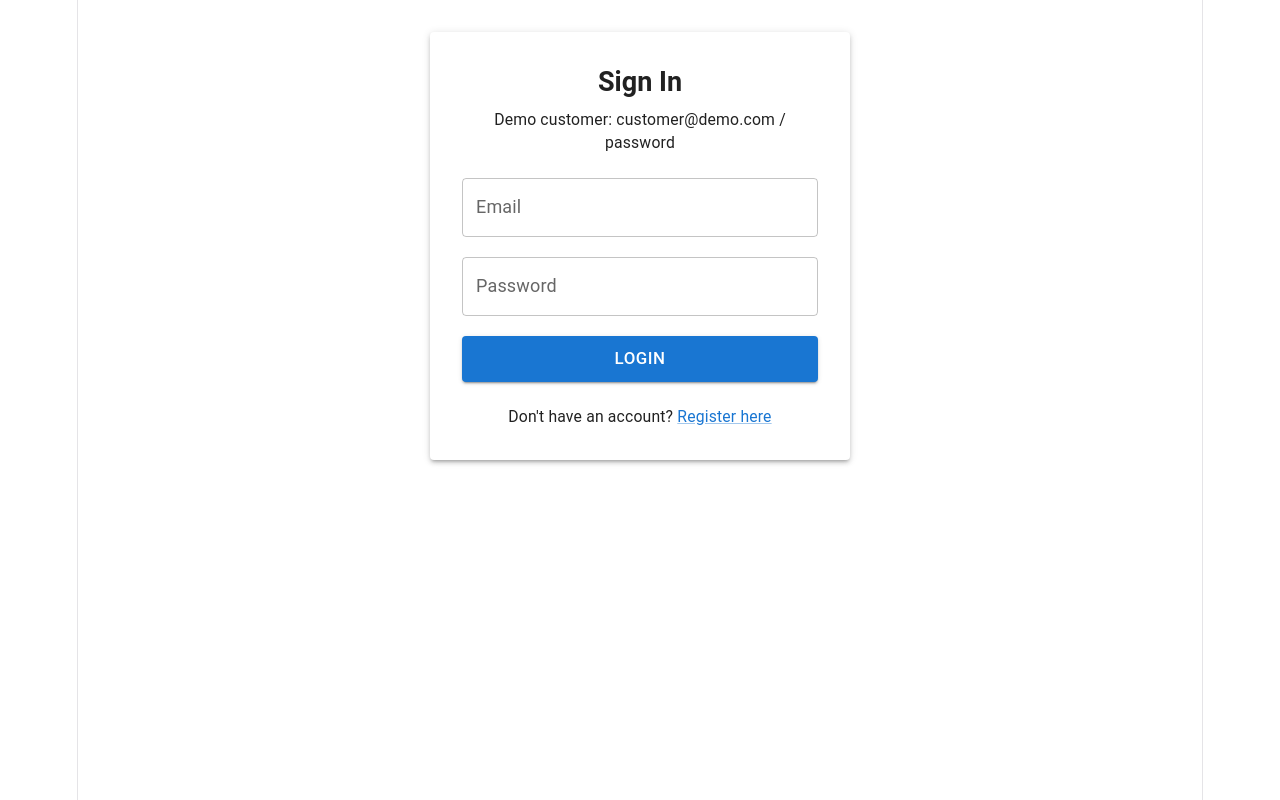
Test: LoginPage › shows validation messages when submitting empty fields
The image size is (1280, 800).
Click the button "Login": (640,359) [462,336,818,382]
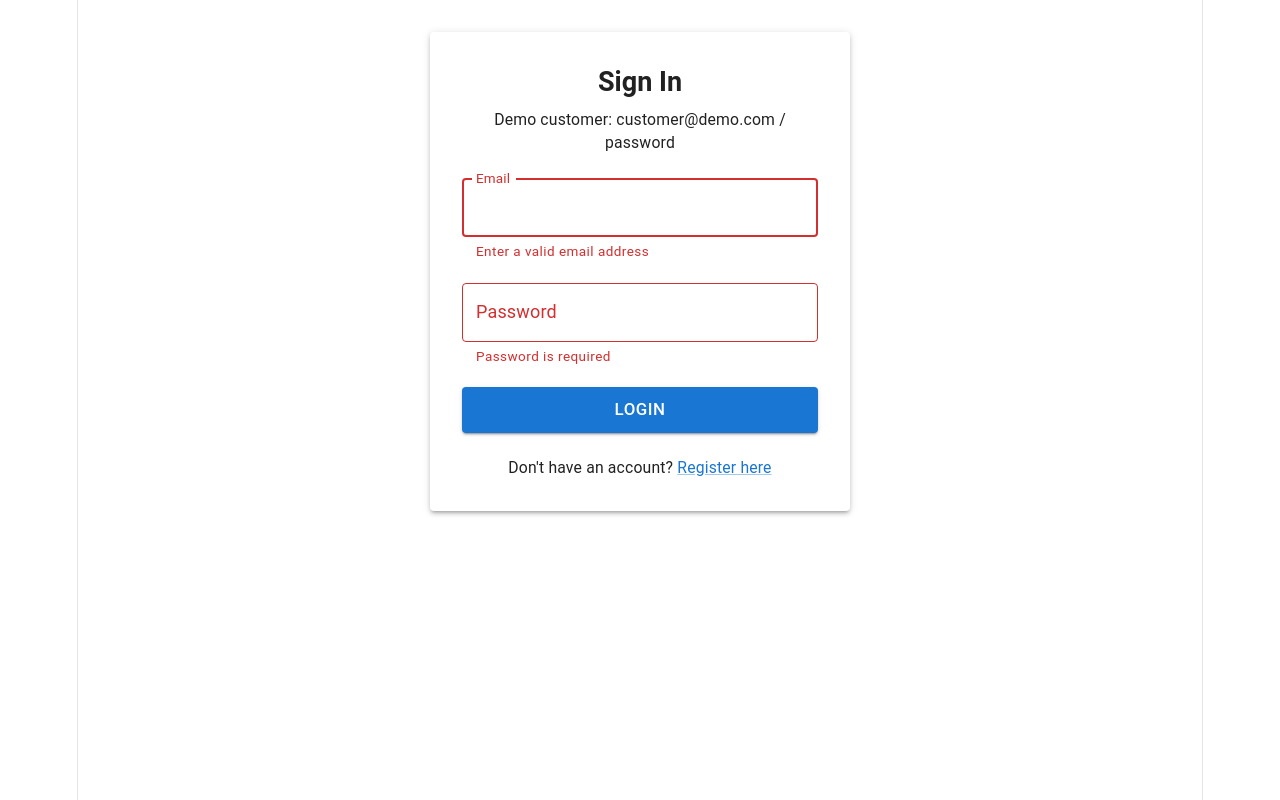
Check: the text "Enter a valid email address" is shown, box [476,243,649,259]
Check: the text "Password is required" is shown, box [476,348,611,364]
